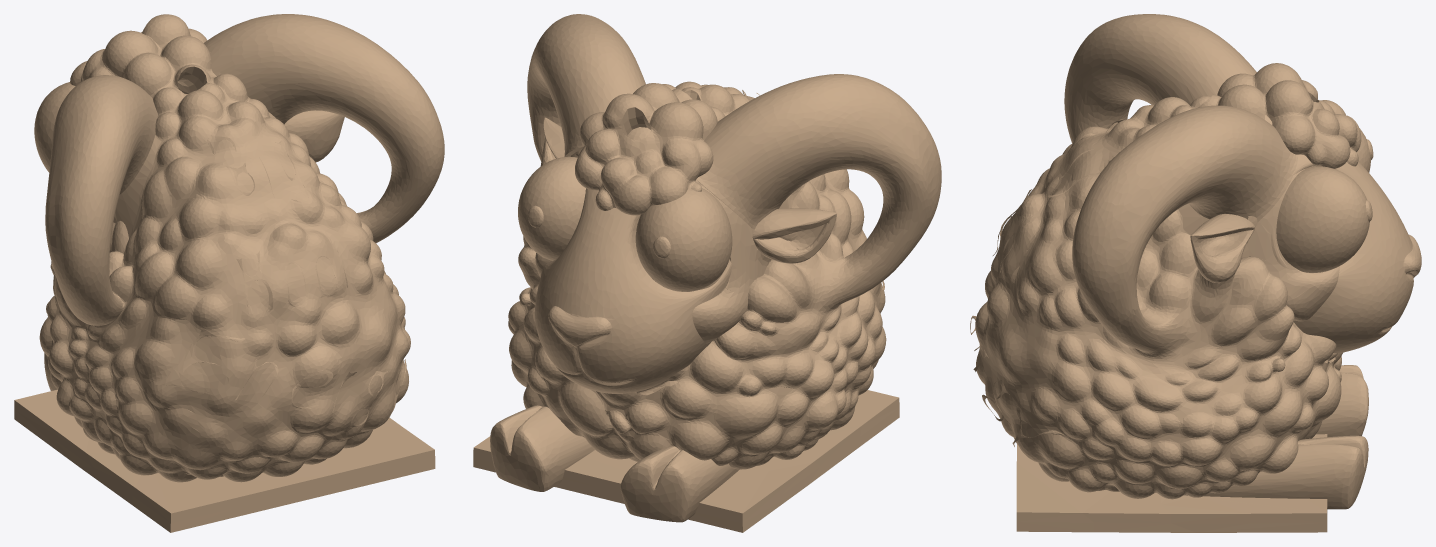
The model's file is big-hoof-energy.glb.
3 renders of one model, left to right at view 1: azimuth 30°, elevation 25°; view 2: azimuth 150°, elevation 25°; view 3: azimuth 270°, elevation 25°, orthographic.
Visible parts, largest first — view 1: Big Horn Energy - For Sale $8; view 2: Big Horn Energy - For Sale $8; view 3: Big Horn Energy - For Sale $8.
Part boxes in pixels (x1,y1,x2,y2): Big Horn Energy - For Sale $8: (14, 14, 444, 532); Big Horn Energy - For Sale $8: (473, 14, 941, 532); Big Horn Energy - For Sale $8: (970, 14, 1421, 532).
Bounding box in the file's own units: 31.76 × 30.88 × 31.97.
